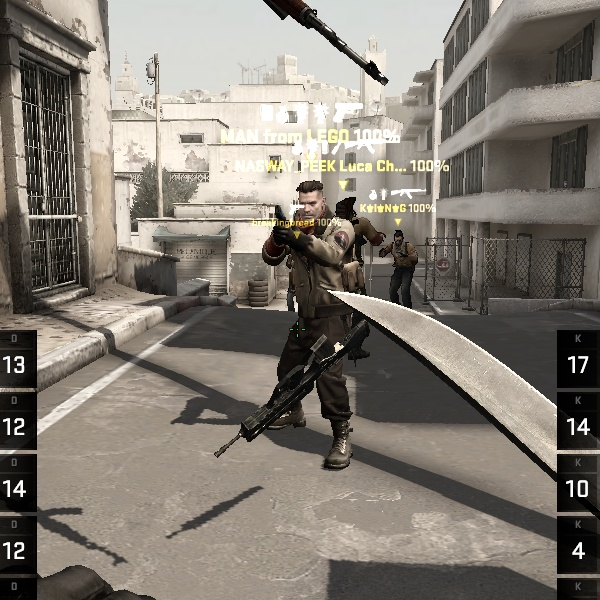t_body: (266, 180, 354, 471), (378, 229, 418, 307), (344, 197, 385, 251)
t_head: (296, 180, 326, 222), (394, 231, 404, 248)
